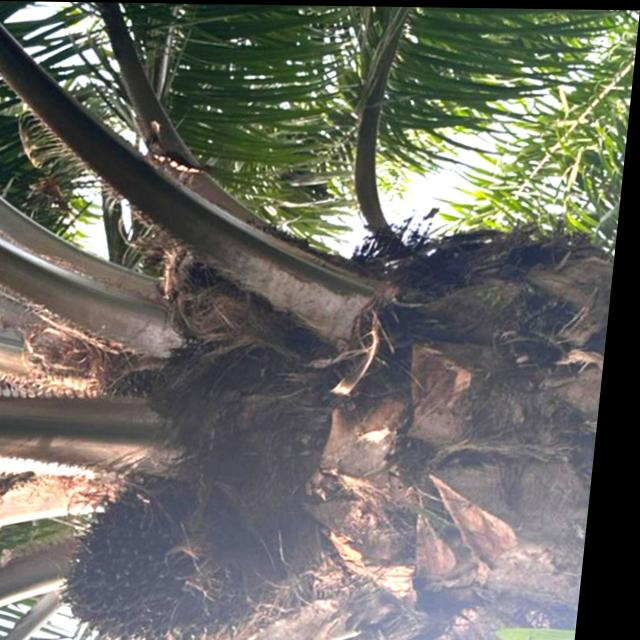unripe: (66, 477, 267, 640)
